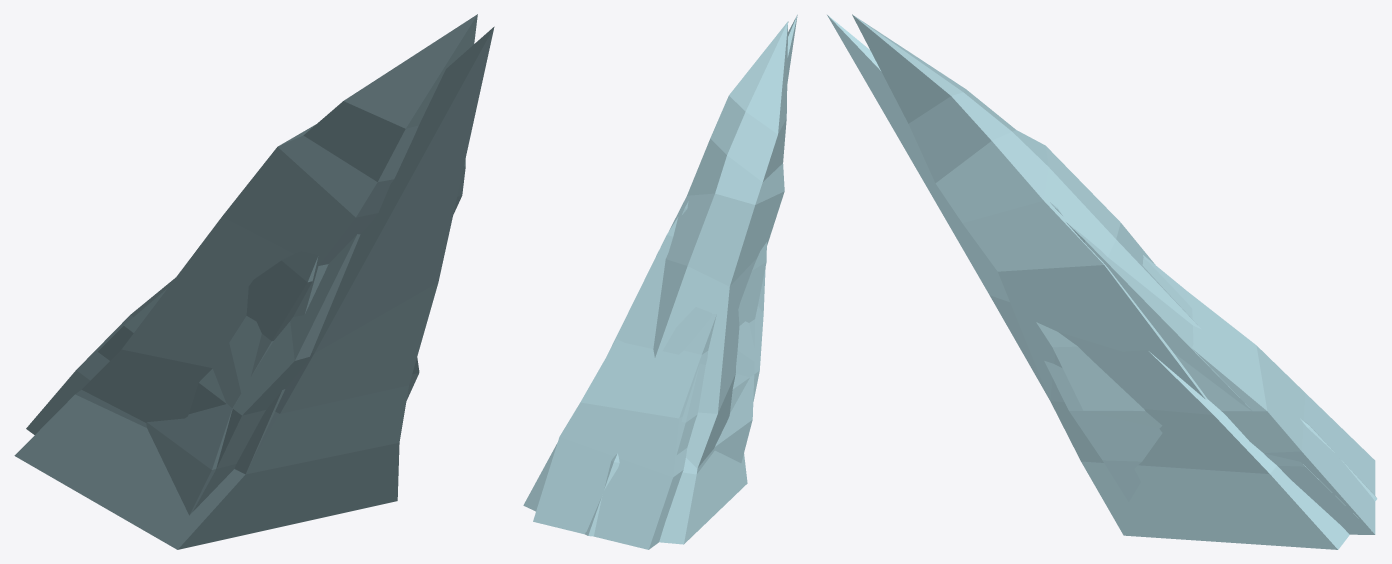
The model's file is Ices01_WithUV.fbx.
3 renders of one model, left to right at view 1: azimuth 30°, elevation 25°; view 2: azimuth 150°, elevation 25°; view 3: azimuth 270°, elevation 25°, orthographic. The views are drawn at different scales.
Visible parts, largest first — view 1: IcePike2, IcePike3, IcePike4, IcePike; view 2: IcePike4, IcePike3, IcePike, IcePike2; view 3: IcePike3, IcePike2, IcePike4, IcePike.
Part boxes in pixels (x1,y1,x2,y2): IcePike2: (14,26,494,549); IcePike3: (81,14,477,474); IcePike4: (26,251,318,515); IcePike: (98,234,419,511); IcePike4: (533,201,766,549); IcePike3: (653,21,788,468); IcePike: (607,217,765,454); IcePike2: (523,14,797,544); IcePike3: (852,14,1207,400); IcePike2: (827,15,1377,549); IcePike4: (1036,202,1375,534); IcePike: (1044,221,1374,534).
Size of the model in its own units: 277 by 608 by 627.
